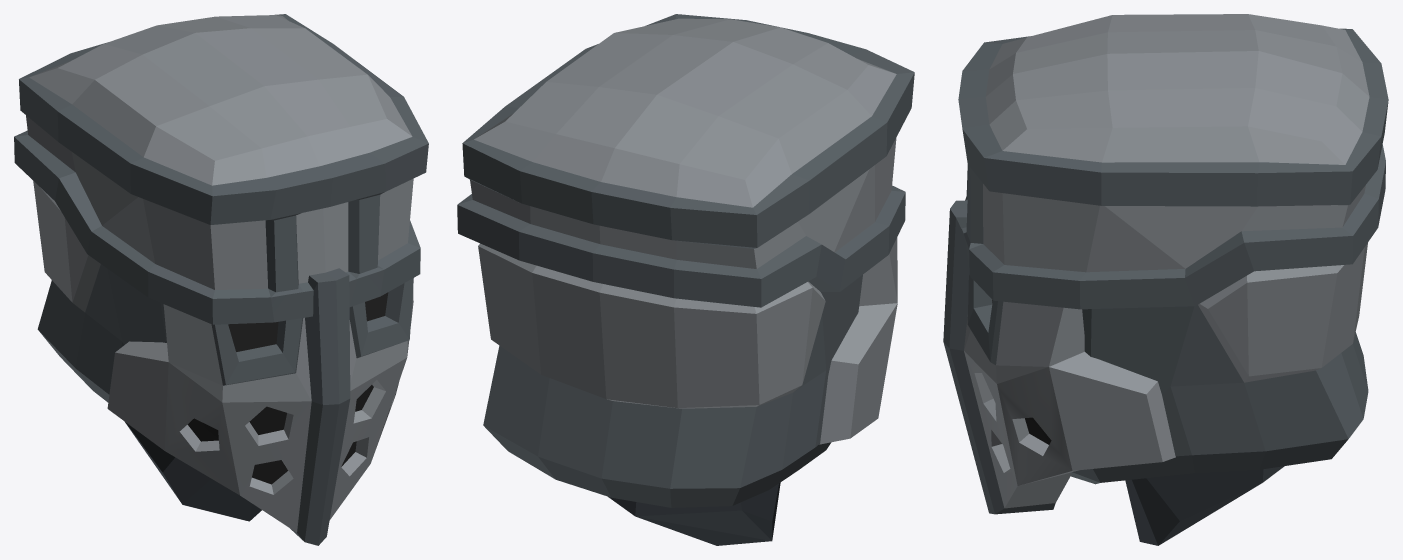
File: Chr_Head_No_Elements_Female_07_Static.fbx
The picture shows the model from 3 angles, left to right: view 1: azimuth 30°, elevation 25°; view 2: azimuth 150°, elevation 25°; view 3: azimuth 270°, elevation 25°; orthographic projection. The views are drawn at different scales.
Parts seen in each view (by area): view 1: Chr_Head_No_Elements_Female_07_Static; view 2: Chr_Head_No_Elements_Female_07_Static; view 3: Chr_Head_No_Elements_Female_07_Static.
Part boxes in pixels (x1,y1,x2,y2): Chr_Head_No_Elements_Female_07_Static: (14, 14, 428, 545); Chr_Head_No_Elements_Female_07_Static: (457, 14, 914, 545); Chr_Head_No_Elements_Female_07_Static: (943, 14, 1388, 545).
Size of the model in its own units: 0.2659 by 0.3994 by 0.3284.
